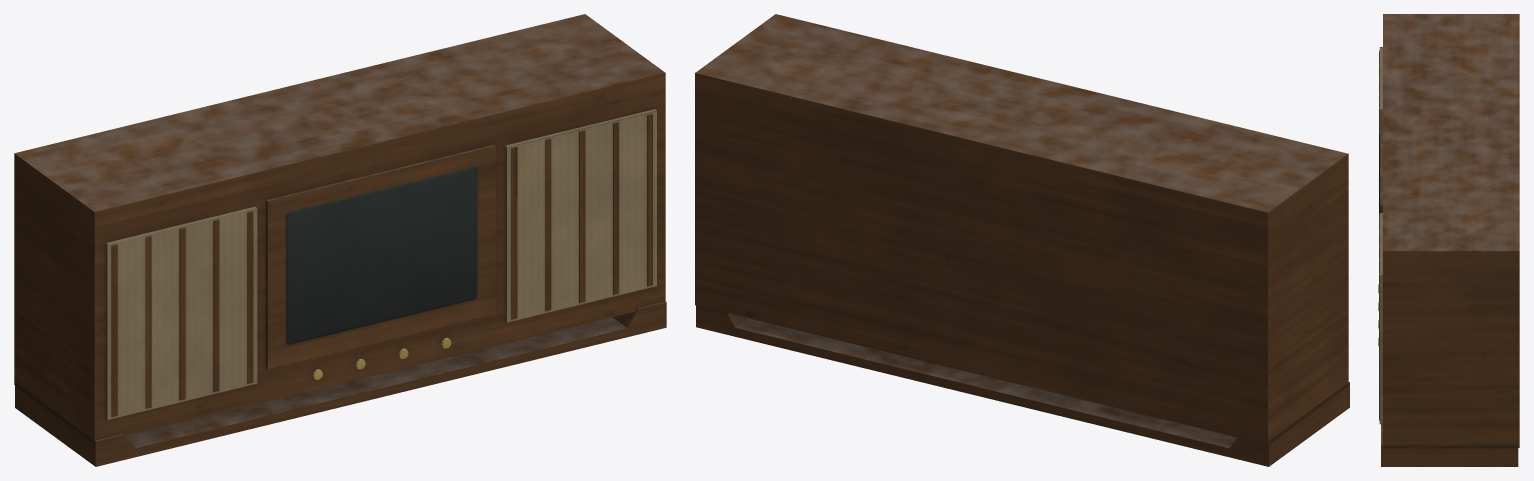
Rendered from H_TVConsole.fbx.
3 views of the same model, side by side, from view 1: azimuth 30°, elevation 25°; view 2: azimuth 150°, elevation 25°; view 3: azimuth 270°, elevation 25° (orthographic). The views are drawn at different scales.
Parts seen in each view (by area): view 1: H_TVConsole; view 2: H_TVConsole; view 3: H_TVConsole.
Part boxes in pixels (box(x1,y1,x2,y2)): H_TVConsole: box(14, 14, 666, 466); H_TVConsole: box(695, 14, 1349, 466); H_TVConsole: box(1378, 14, 1519, 466).
Bounding box in the file's own units: 800 × 340 × 202.
Materials: 1 (1 with a texture image).
